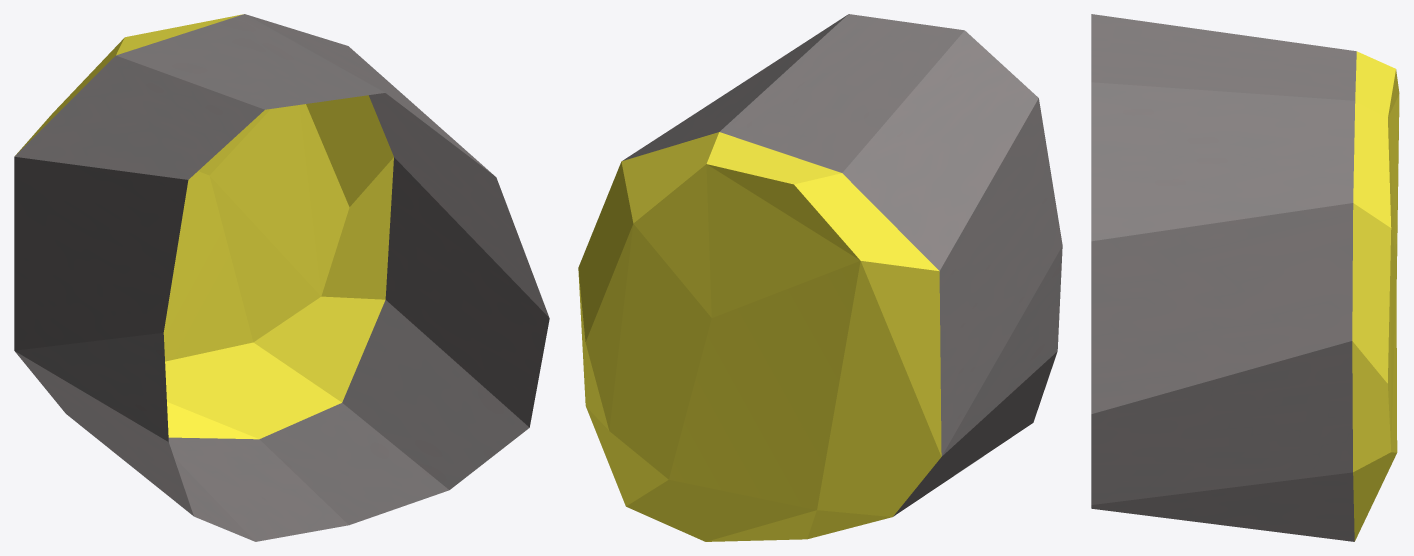
The model's file is Rock_Yellow.fbx.
3 renders of one model, left to right at view 1: azimuth 30°, elevation 25°; view 2: azimuth 150°, elevation 25°; view 3: azimuth 270°, elevation 25°, orthographic. The views are drawn at different scales.
Visible parts, largest first — view 1: Rock_Yellow; view 2: Rock_Yellow; view 3: Rock_Yellow.
Part boxes in pixels (x1,y1,x2,y2): Rock_Yellow: (14,14,549,541); Rock_Yellow: (578,14,1062,541); Rock_Yellow: (1091,14,1399,541).
Size of the model in its own units: 2.05 by 2.28 by 1.43.
1 material, 1 textured.
